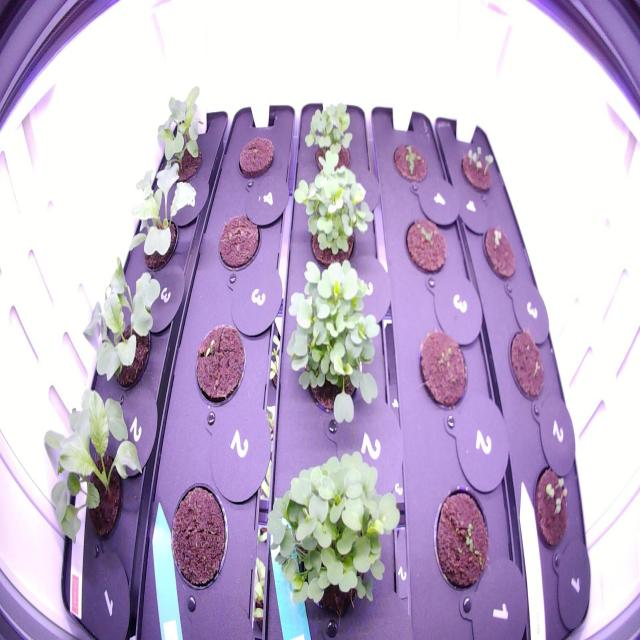germination: (428, 479, 494, 598), (301, 89, 358, 187), (190, 321, 251, 412), (526, 459, 574, 560), (400, 210, 451, 283), (454, 137, 504, 205), (478, 219, 523, 289), (385, 134, 433, 192)
pod: (158, 476, 234, 598), (412, 321, 476, 419), (503, 322, 549, 412), (212, 209, 267, 283), (234, 130, 279, 187)
